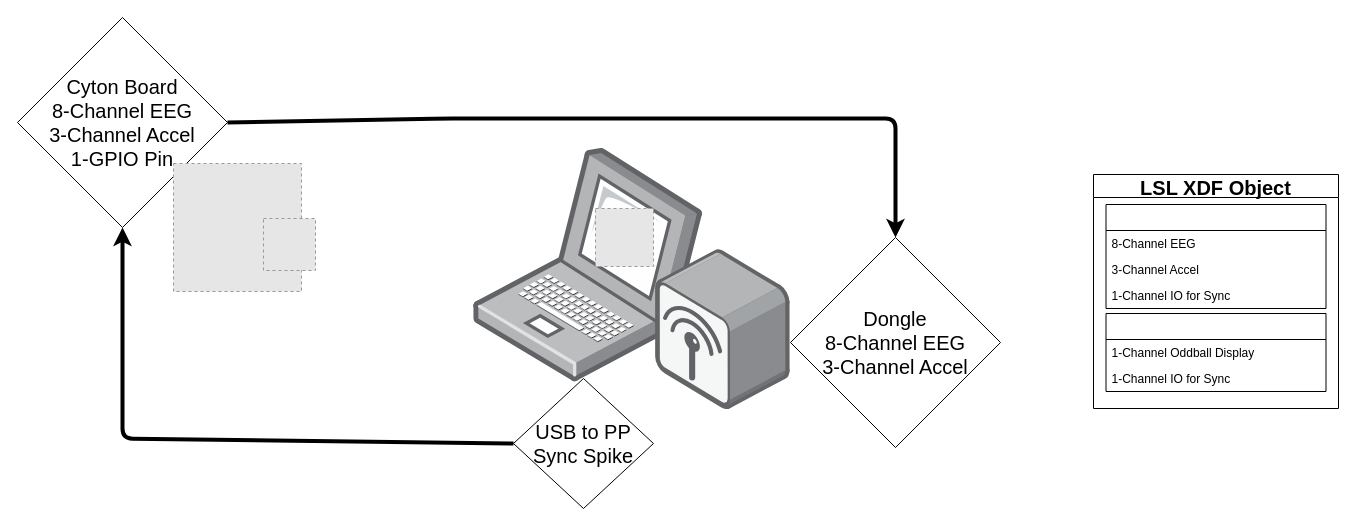
The diagram is 1356 pixels wide and 526 high, and some of its shapes have lost their labels. Grey dashed boxes stand in for pictures. Here are the shapes that lost their labels. From the top down, the box of each, then its label:
(1105, 204, 1326, 308): LSL BCI Stream
(1105, 312, 1326, 392): LSL PsycoPy Stream
